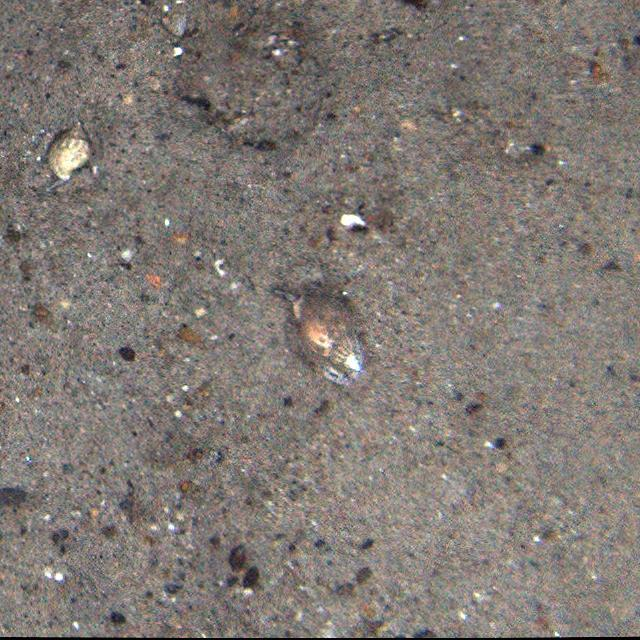whelk: (274, 283, 368, 388), (44, 120, 94, 180)
